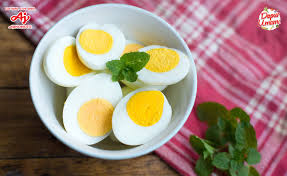Telur rebus: (60, 76, 128, 141), (111, 89, 174, 147), (74, 22, 127, 71), (133, 46, 191, 85), (43, 34, 85, 87)
